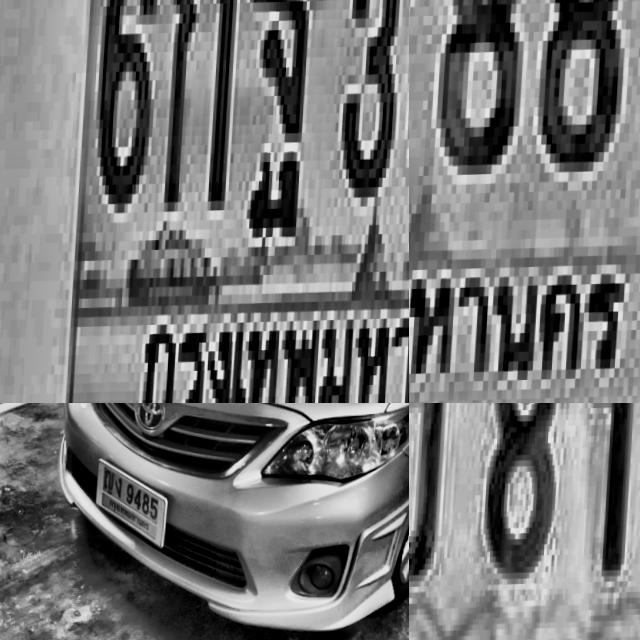license-plate: (0, 0, 409, 403), (409, 0, 640, 403), (409, 403, 640, 640), (91, 451, 174, 559)
